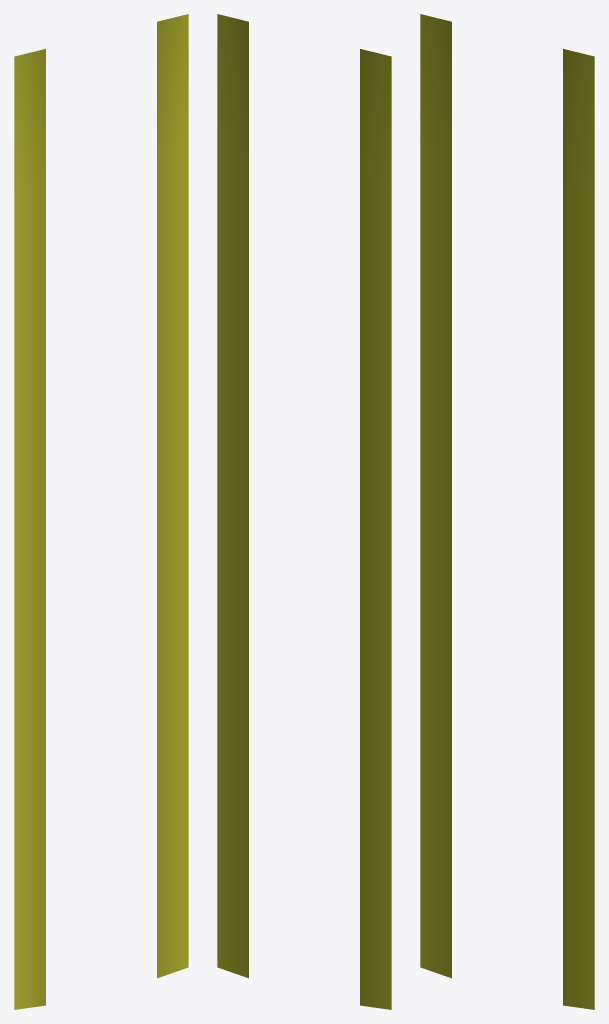
The model's file is lamp_4.fbx.
3 renders of one model, left to right at view 1: azimuth 30°, elevation 25°; view 2: azimuth 150°, elevation 25°; view 3: azimuth 330°, elevation 25°, orthographic.
Parts seen in each view (by area): view 1: lamp_4; view 2: lamp_4; view 3: lamp_4.
Part boxes in pixels (box(x1,y1,x2,y2)): lamp_4: box(14, 14, 188, 1009); lamp_4: box(217, 14, 391, 1009); lamp_4: box(420, 14, 594, 1009).
Size of the model in its own units: 2.38 by 12.48 by 0.
